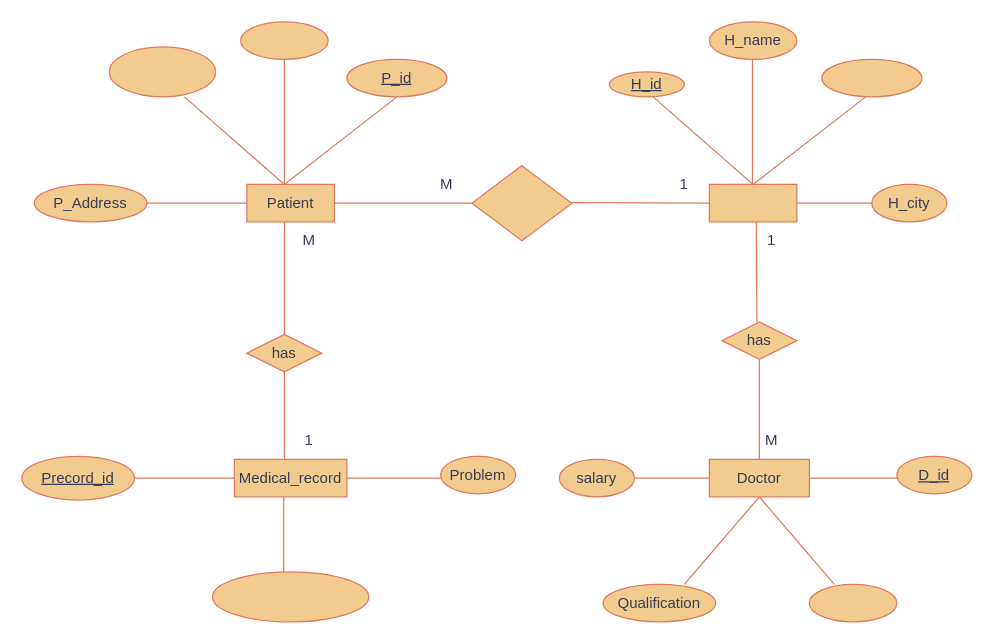
The diagram is 994 pixels wide and 644 high, and some of its shapes have lost their labels. Here are the shapes that lost their labels. From the top down, the centre of each, then its label:
At [283,40]: "P_name".
At [162,71]: "P_Diagnosis".
At [871,77]: "H_Address".
At [521,202]: "Admitted in".
At [752,202]: "Hospital".
At [290,596]: "Date_of_Examination".
At [852,602]: "D_name".
